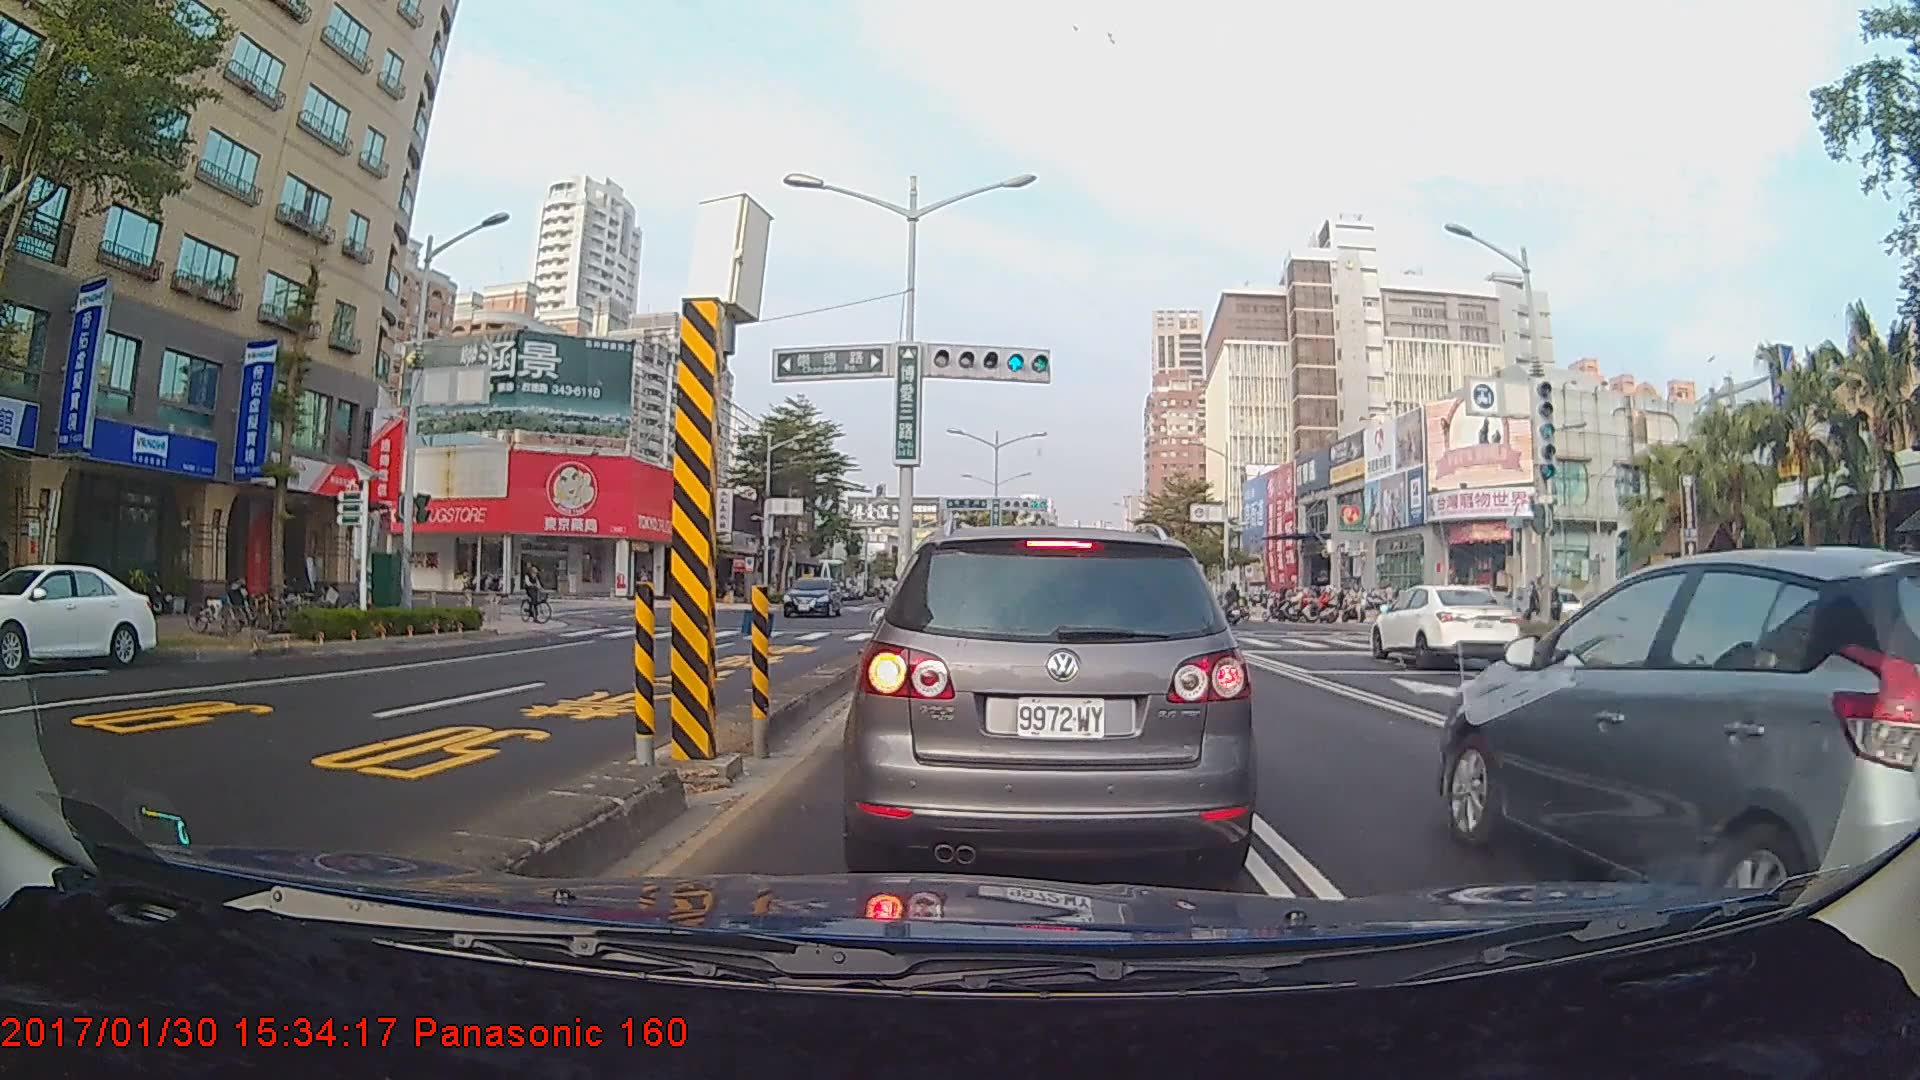rider: (518, 559, 561, 629)
vehicle: (1435, 546, 1920, 890), (854, 520, 1249, 878), (0, 561, 157, 671), (1366, 584, 1513, 672), (782, 574, 843, 620)
